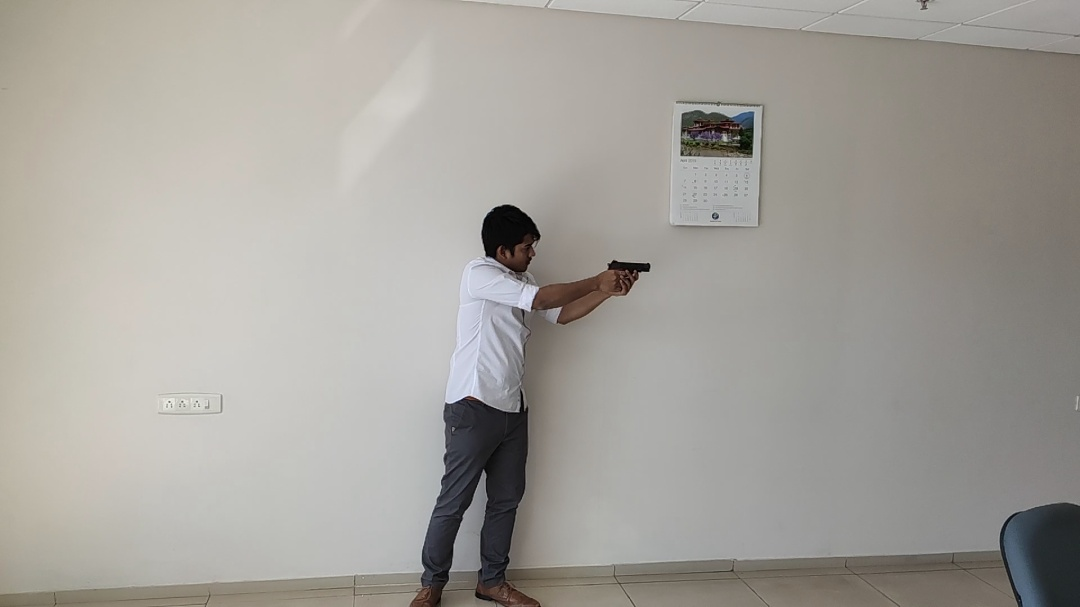gun: (606, 259, 652, 275)
